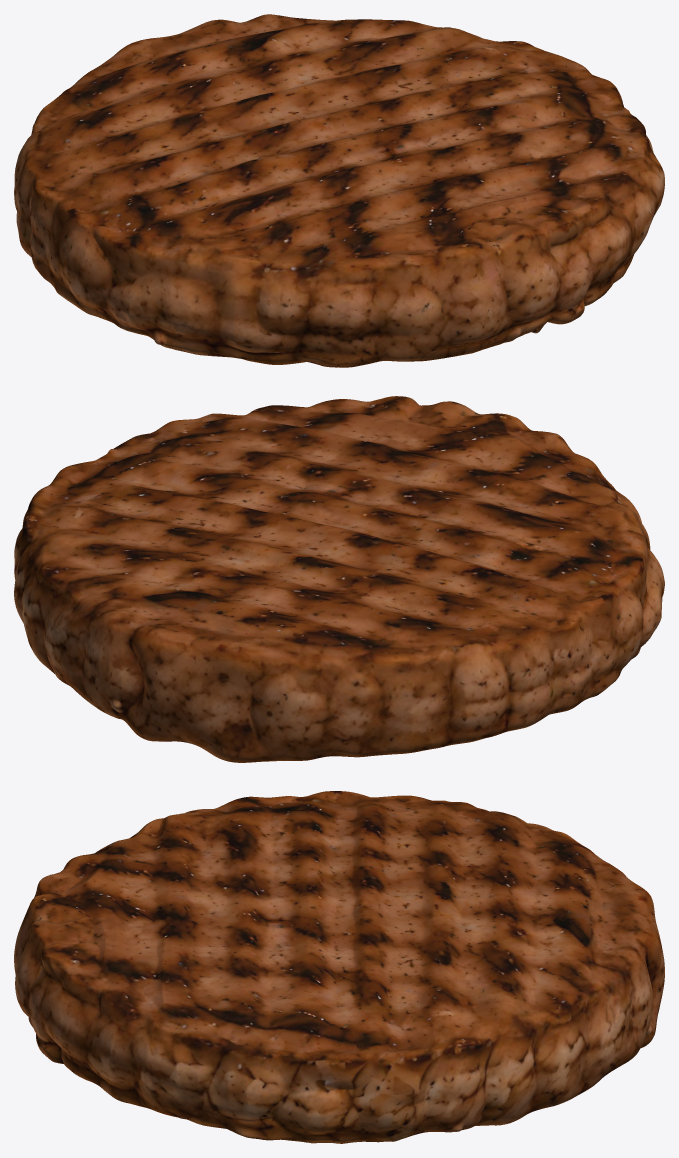
Rendered from tripo_convert_0c17cad2-7300-4c6a-b3b3-99f5674e7329.fbx.
3 views of the same model, one above another, from view 1: azimuth 30°, elevation 25°; view 2: azimuth 150°, elevation 25°; view 3: azimuth 270°, elevation 25° (orthographic).
Parts seen in each view (by area): view 1: tripo_node_0c17cad2; view 2: tripo_node_0c17cad2; view 3: tripo_node_0c17cad2.
Boxes of the visible parts, left/top/right/bottom form: tripo_node_0c17cad2: left=14, top=14, right=664, bottom=367; tripo_node_0c17cad2: left=14, top=396, right=664, bottom=762; tripo_node_0c17cad2: left=14, top=791, right=664, bottom=1143.
Bounding box in the file's own units: 0.9999 × 0.225 × 0.9948.
